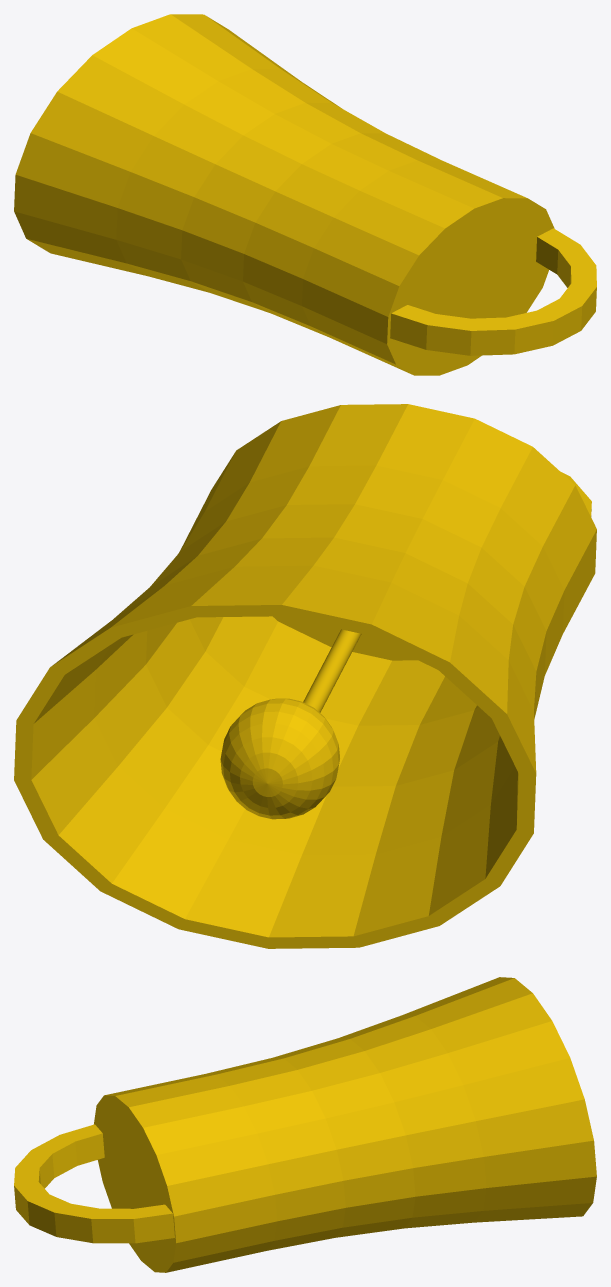
3 renders of one model, top to bottom at view 1: azimuth 30°, elevation 25°; view 2: azimuth 150°, elevation 25°; view 3: azimuth 270°, elevation 25°, orthographic. The views are drawn at different scales.
Visible parts, largest first — view 1: Cylinder001, Cylinder003; view 2: Cylinder001, Sphere001, Cylinder002; view 3: Cylinder001, Cylinder003.
Part boxes in pixels (x1,y1,x2,y2): Cylinder001: [14, 14, 554, 375]; Cylinder003: [390, 228, 596, 355]; Cylinder001: [14, 404, 596, 948]; Sphere001: [220, 698, 339, 819]; Cylinder002: [303, 629, 361, 712]; Cylinder001: [94, 977, 596, 1272]; Cylinder003: [14, 1124, 174, 1243].
Size of the model in its own units: 677491 by 371535 by 947015.
